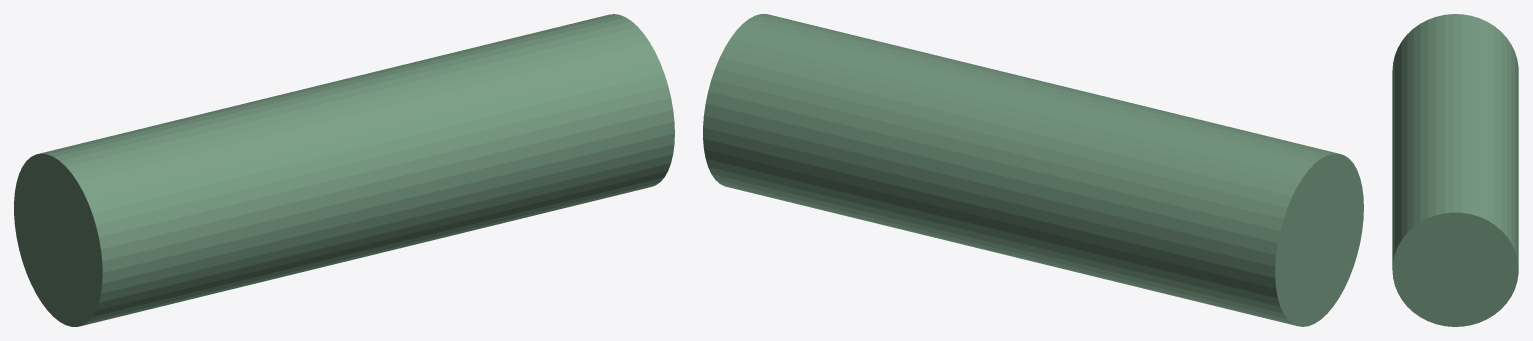
File: peg_50_canonical.obj
The picture shows the model from 3 angles, left to right: view 1: azimuth 30°, elevation 25°; view 2: azimuth 150°, elevation 25°; view 3: azimuth 270°, elevation 25°; orthographic projection. The views are drawn at different scales.
Parts seen in each view (by area): view 1: geometry_0; view 2: geometry_0; view 3: geometry_0.
Part boxes in pixels (x1,y1,x2,y2): geometry_0: (14, 14, 674, 326); geometry_0: (703, 14, 1363, 326); geometry_0: (1392, 14, 1518, 326).
Bounding box in the file's own units: 0.15 × 0.0403 × 0.0403.
